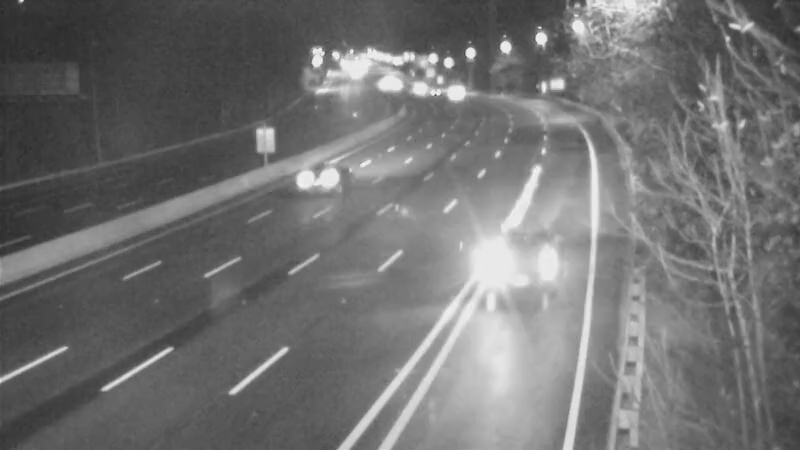vehicle: (280, 139, 360, 219), (475, 222, 555, 302), (358, 60, 408, 110), (391, 60, 441, 110), (407, 67, 457, 117), (429, 69, 479, 119)
